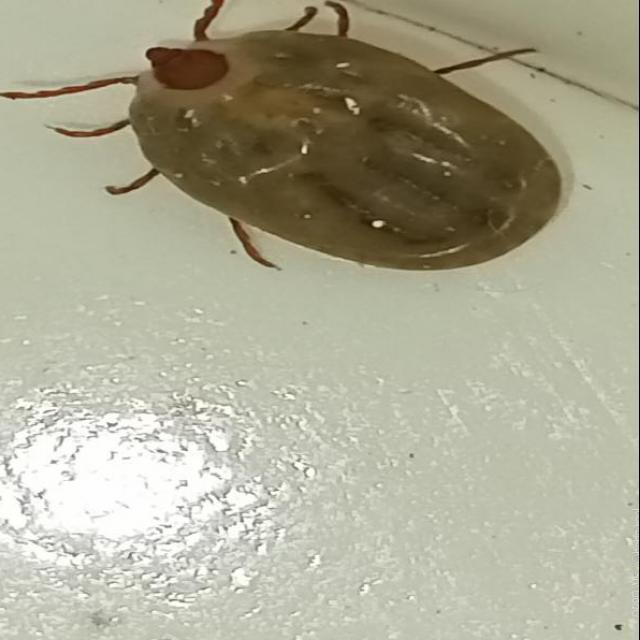Rhipicephalus Sanguineus-F-Fed: (2, 0, 567, 271)
